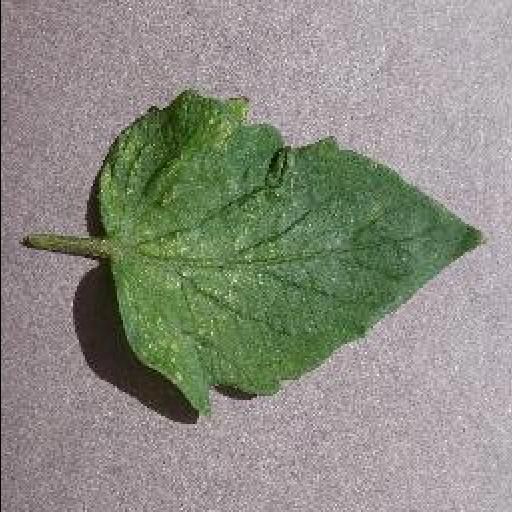disease_tomato: (96, 92, 482, 420)
